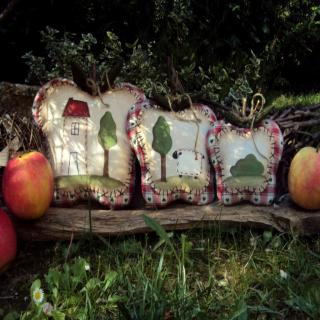Apple: (3, 147, 54, 221), (288, 145, 320, 211), (0, 208, 16, 267)
Peach: (0, 150, 54, 220), (289, 149, 319, 210), (0, 206, 17, 270)
